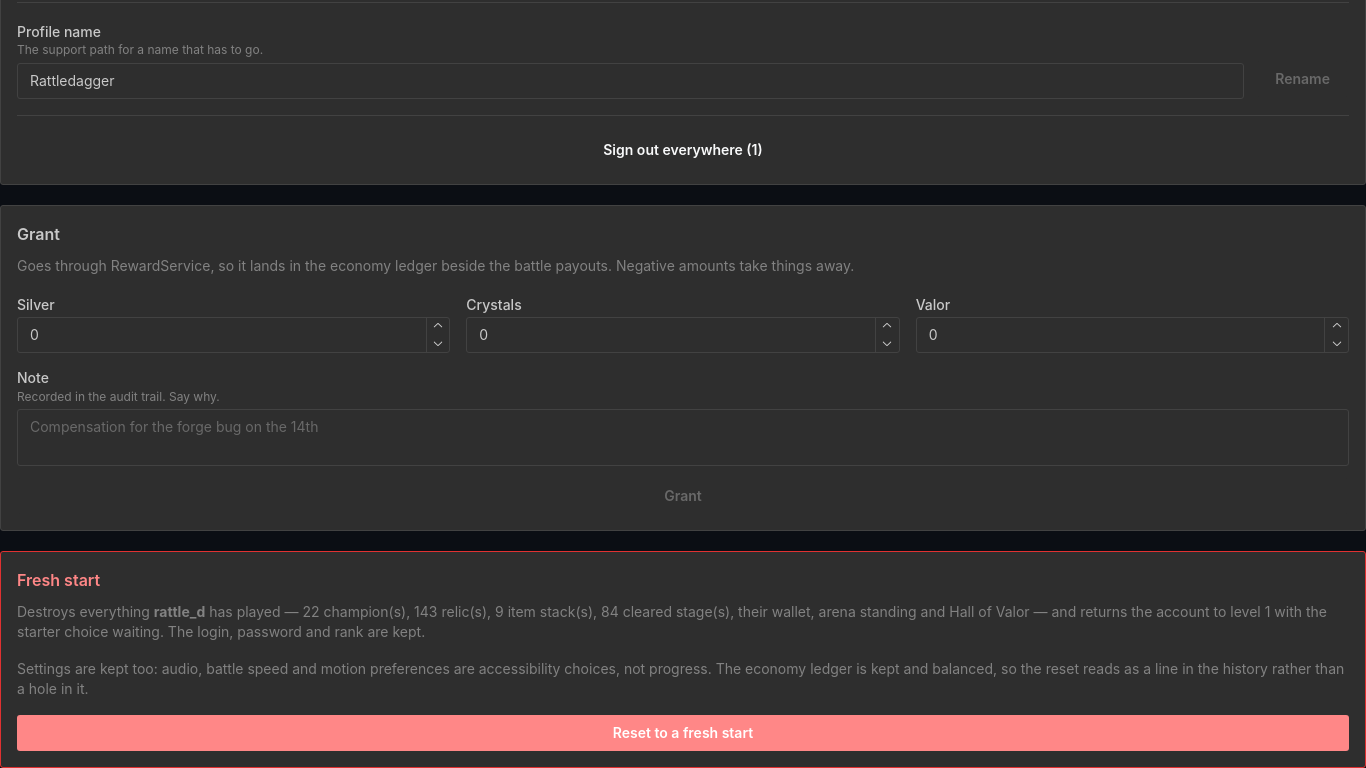
Test case: the fresh-start reset › demands the account name typed out, exactly
(page scrolled)
Click the button "Reset to a fresh start" at (683,733), box [17,715,1349,751]
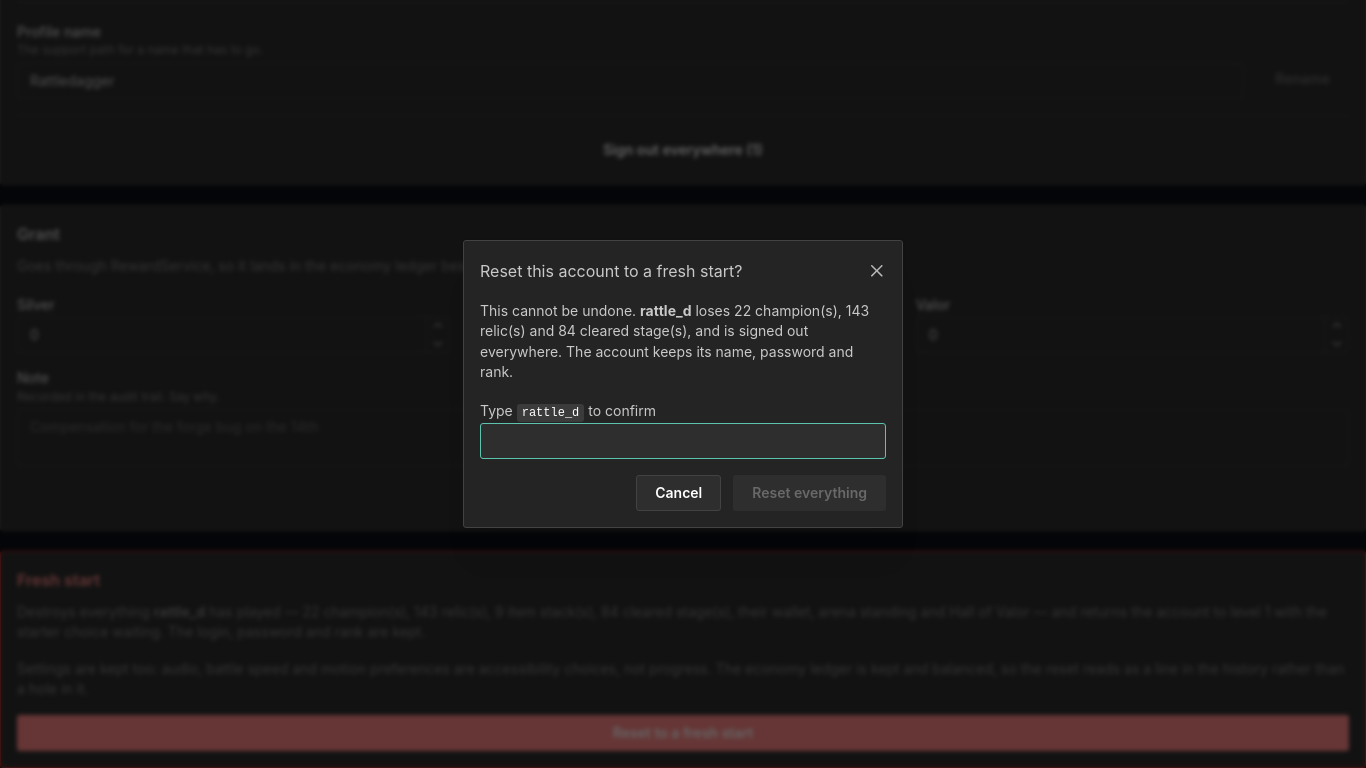
Check: the button "Reset everything" is disabled, box [733,475,886,511]
Type "rattle_" into the field at (683,441), box [480,423,886,459]
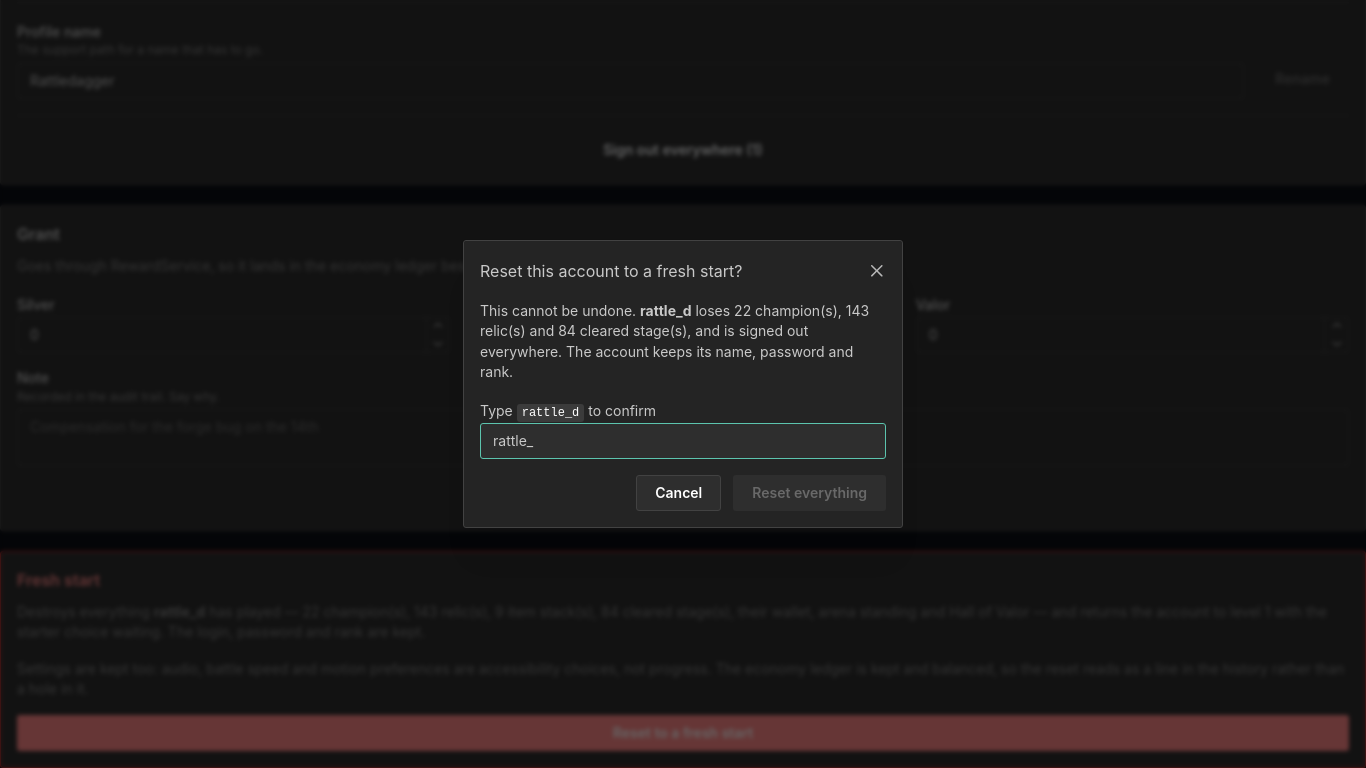
Check: the button "Reset everything" is disabled, box [733,475,886,511]
Type "d" into the field at (683,441), box [480,423,886,459]
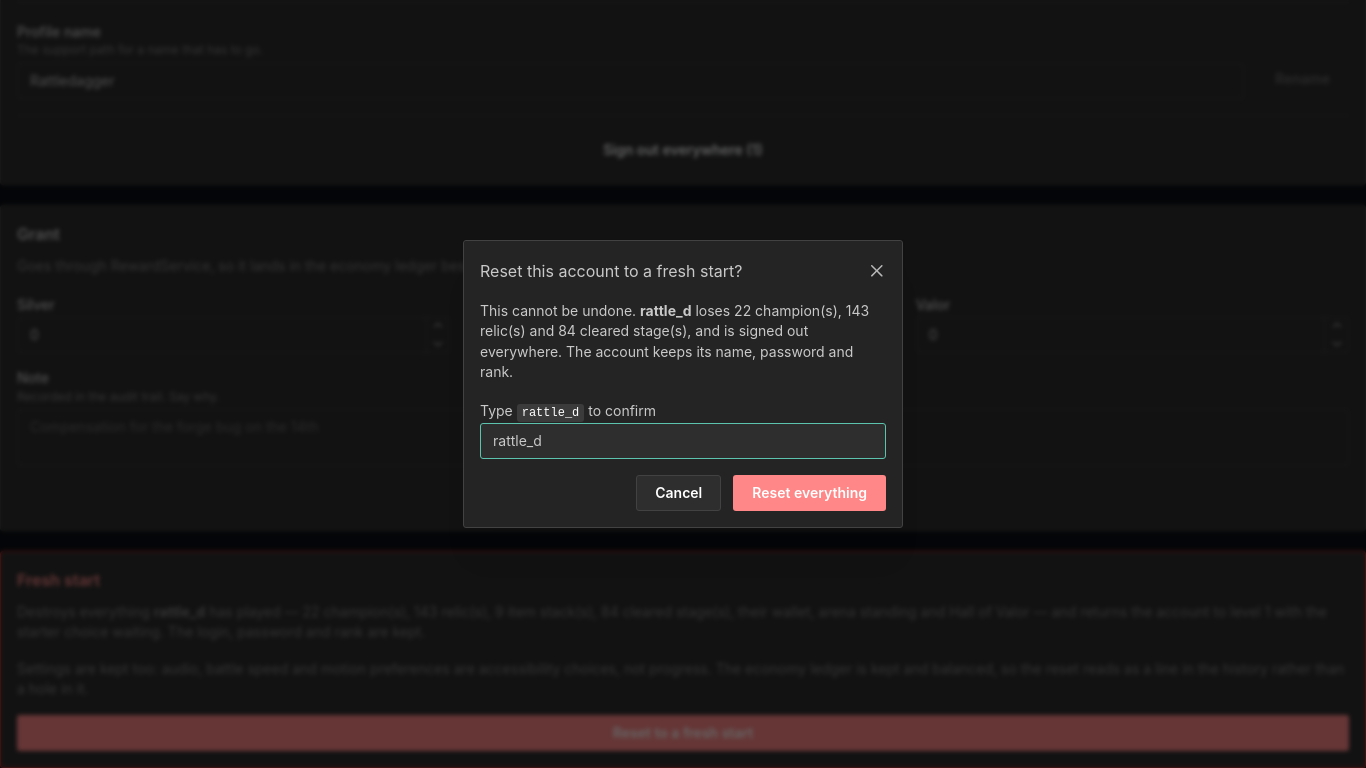
Check: the button "Reset everything" is enabled, box [733,475,886,511]
